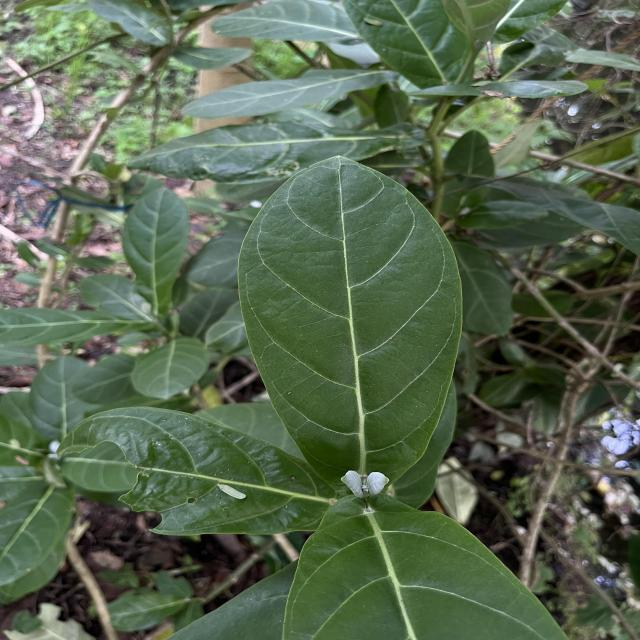Calotropis gigantea: (234, 150, 466, 494), (118, 185, 191, 312), (130, 334, 212, 400)
